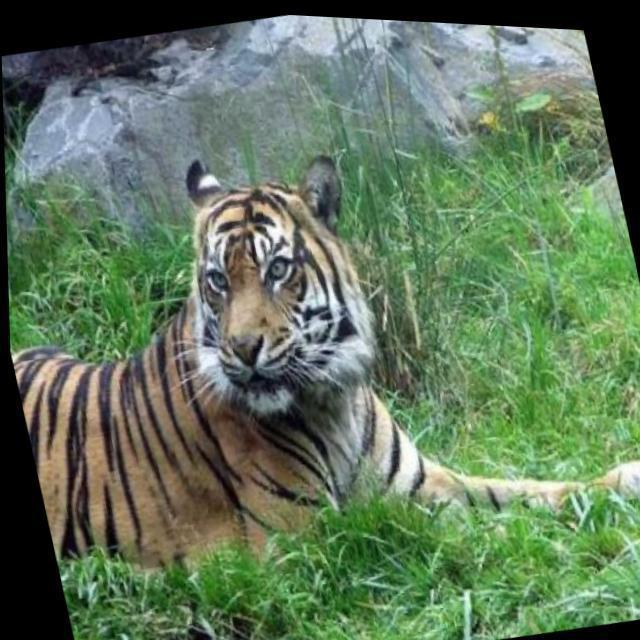tiger: (11, 153, 639, 578)
